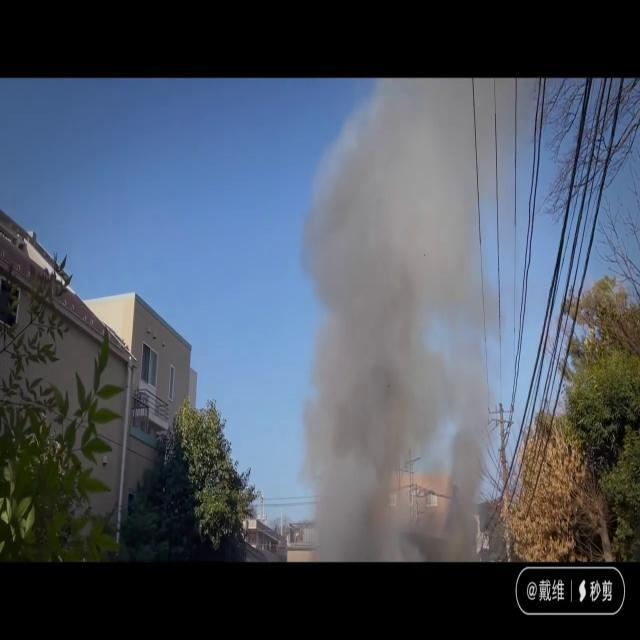Smoke: (286, 79, 516, 557)
